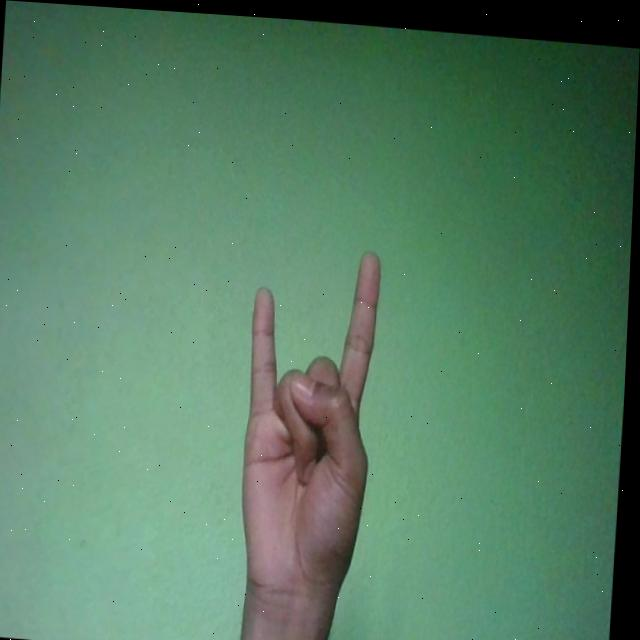Rock On: (239, 240, 385, 605)
